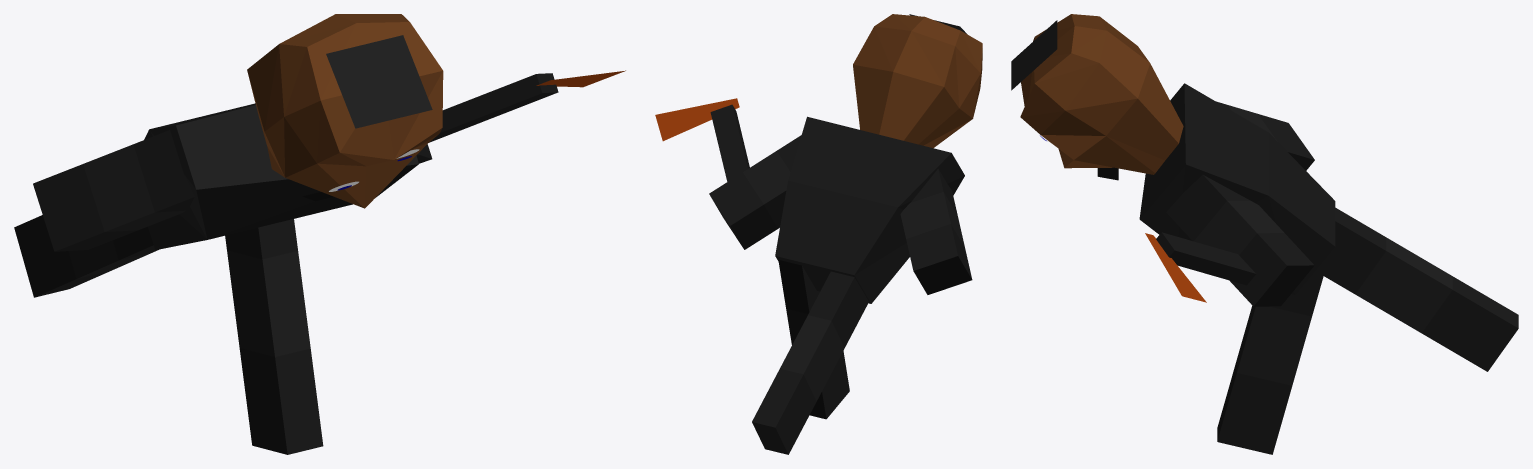
The model's file is axeman2d.obj.
3 renders of one model, left to right at view 1: azimuth 30°, elevation 25°; view 2: azimuth 150°, elevation 25°; view 3: azimuth 270°, elevation 25°, orthographic. The views are drawn at different scales.
Parts seen in each view (by area): view 1: Cube, Cube.005, Cube.001, Cube.003, Plane.002, Cube.004, Cube.007, Plane.001; view 2: Cube.001, Cube, Cube.004, Cube.003, Cube.002, Cube.005, Cube.007, Plane.001; view 3: Cube, Cube.001, Cube.004, Cube.005, Cube.002, Cube.007, Cube.003, Plane.002, Plane.001.
Part boxes in pixels (x1,y1,x2,y2): Cube: (247, 14, 443, 208); Cube.005: (225, 219, 323, 454); Cube.001: (144, 103, 418, 249); Cube.003: (33, 130, 194, 251); Plane.002: (326, 35, 432, 128); Cube.004: (14, 215, 159, 297); Cube.007: (429, 73, 558, 142); Plane.001: (536, 70, 625, 87); Cube.001: (775, 116, 964, 303); Cube: (853, 14, 982, 148); Cube.004: (752, 271, 868, 454); Cube.003: (900, 168, 972, 294); Cube.002: (709, 135, 801, 249); Cube.005: (778, 260, 849, 419); Cube.007: (710, 104, 749, 181); Plane.001: (655, 98, 739, 141); Cube: (1020, 14, 1183, 174); Cube.001: (1139, 83, 1335, 295); Cube.004: (1324, 207, 1518, 371); Cube.005: (1217, 254, 1329, 454); Cube.002: (1166, 174, 1314, 306); Cube.007: (1156, 232, 1255, 285); Cube.003: (1216, 101, 1314, 170); Plane.002: (1011, 20, 1057, 90); Plane.001: (1145, 233, 1206, 302).
Bounding box in the file's own units: 5.1 × 4.82 × 5.45.
